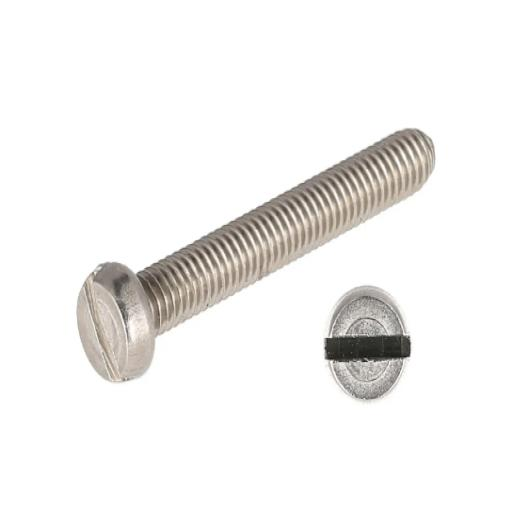Slotted: (328, 286, 409, 400)
